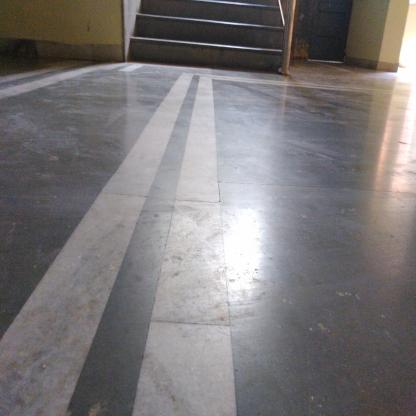stairs: (143, 4, 275, 75)
